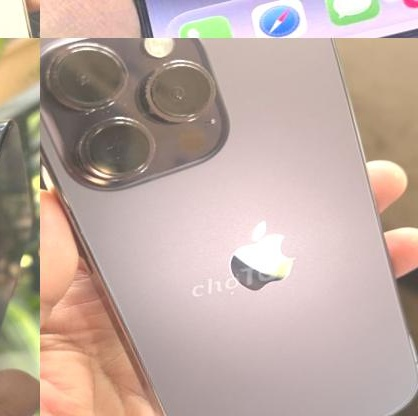scratch: (67, 66, 169, 138), (0, 112, 30, 170)
